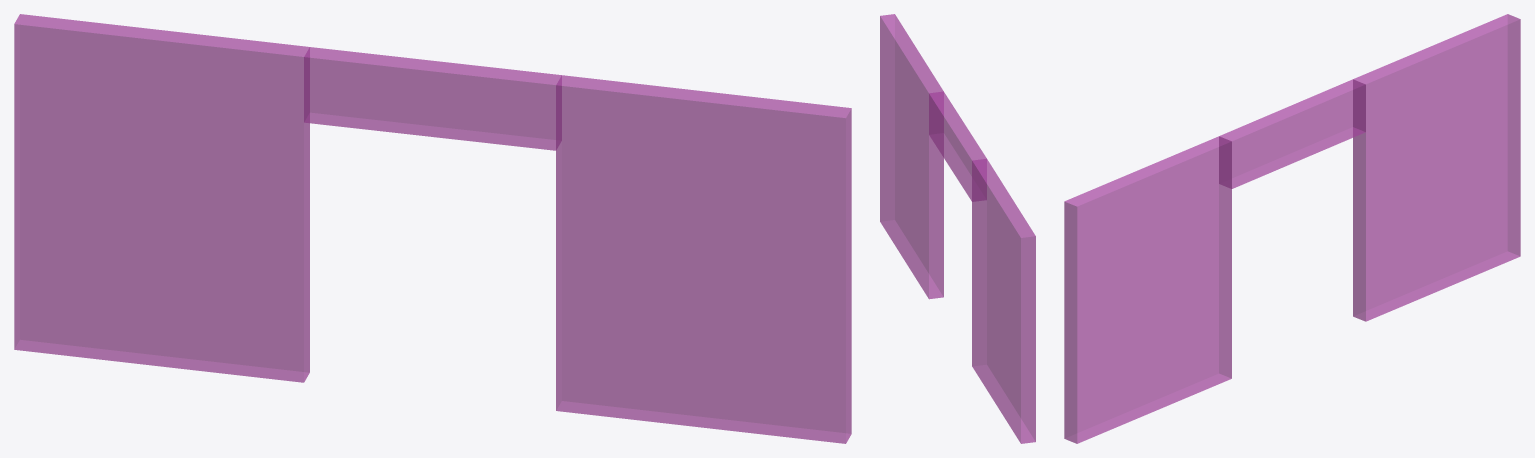
Rendered from SM_Bld_Wall_Entrance_01_Collision.fbx.
3 renders of one model, left to right at view 1: azimuth 30°, elevation 25°; view 2: azimuth 150°, elevation 25°; view 3: azimuth 270°, elevation 25°, orthographic. The views are drawn at different scales.
Visible parts, largest first — view 1: SM_Bld_Wall_Entrance_01_Collision; view 2: SM_Bld_Wall_Entrance_01_Collision; view 3: SM_Bld_Wall_Entrance_01_Collision.
Boxes of the visible parts, x1,y1,x2,y2 form: SM_Bld_Wall_Entrance_01_Collision: [14, 14, 851, 443]; SM_Bld_Wall_Entrance_01_Collision: [880, 14, 1035, 443]; SM_Bld_Wall_Entrance_01_Collision: [1064, 14, 1520, 443].
Bounding box in the file's own units: 526 × 302 × 527.
